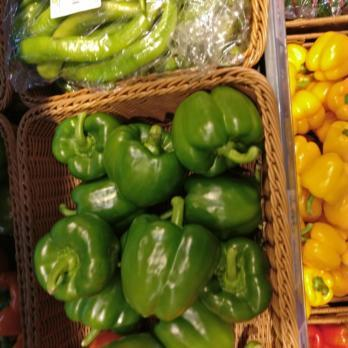Capsicum: (32, 109, 277, 348), (287, 29, 348, 305), (170, 86, 267, 179)
